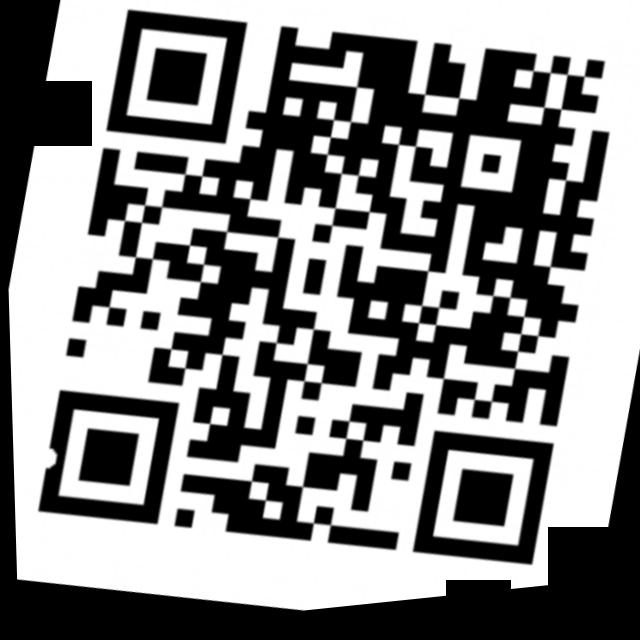QR_CODE: (0, 0, 640, 637)
